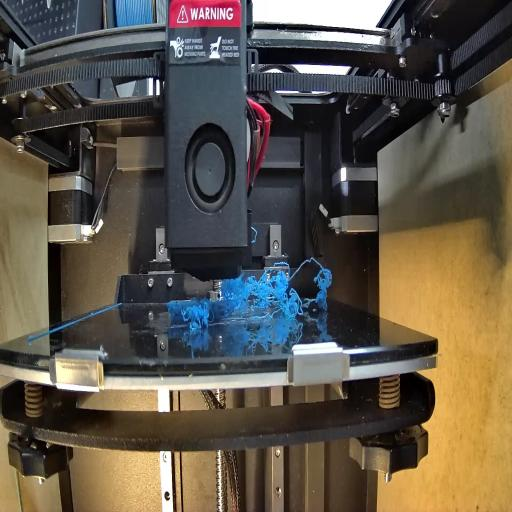spaghetti: (224, 274, 329, 320), (180, 300, 215, 331)
